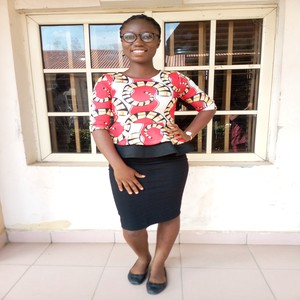Fulokoja_female_student: (99, 16, 182, 291)
